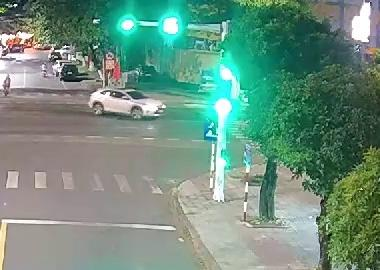green_light: (214, 60, 240, 115), (152, 12, 188, 38), (116, 14, 141, 37)
stop_line: (2, 215, 189, 233)
